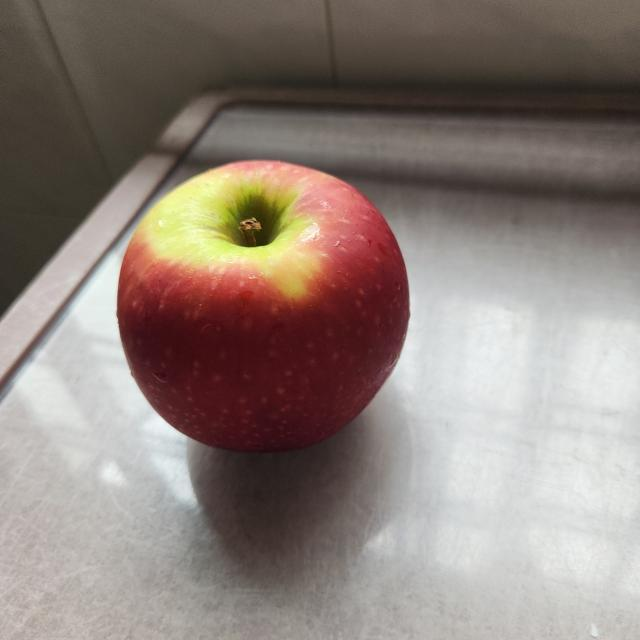apple: (109, 152, 411, 468)
